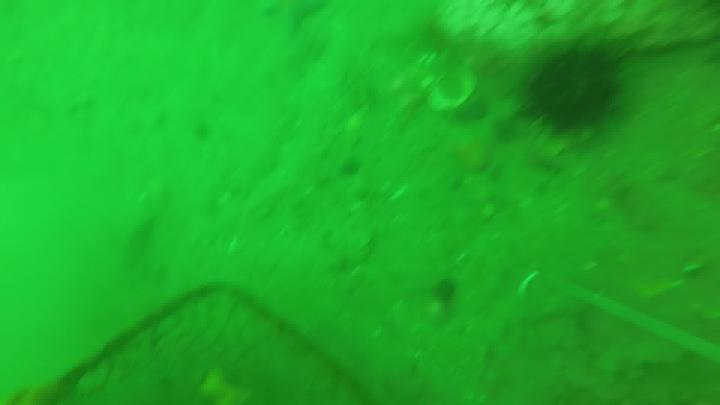echinus: (515, 41, 635, 134)
scallop: (432, 70, 483, 113)
